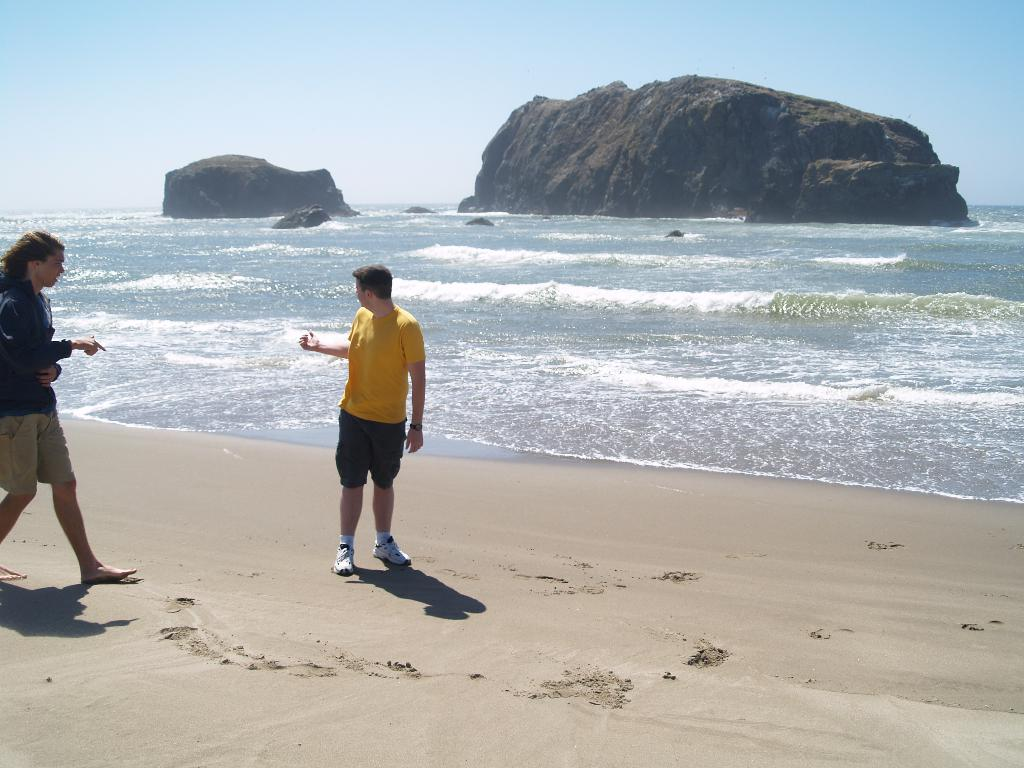Footwear: (371, 532, 413, 573), (328, 545, 355, 577)
